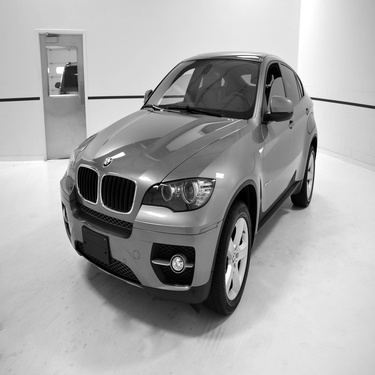car: (53, 44, 325, 321)
